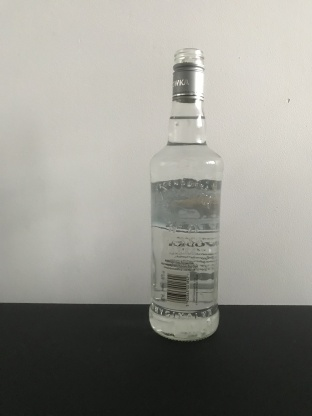nakretka: (170, 46, 206, 104)
